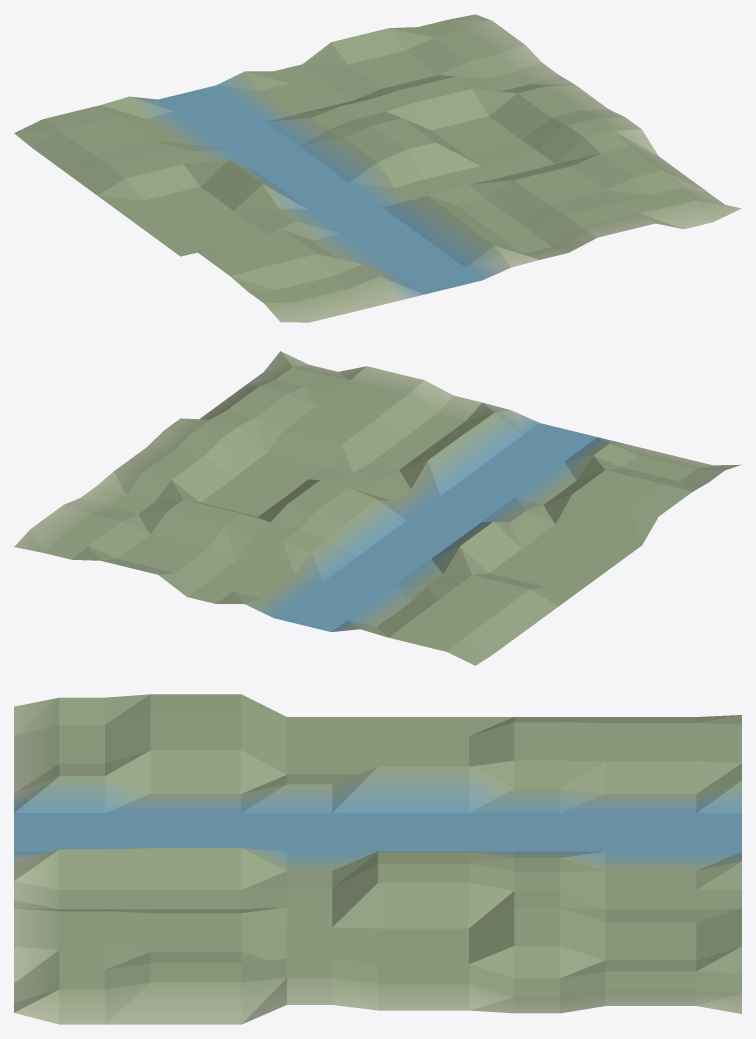
The picture shows the model from 3 angles, top to bottom: view 1: azimuth 30°, elevation 25°; view 2: azimuth 150°, elevation 25°; view 3: azimuth 270°, elevation 25°; orthographic projection. The views are drawn at different scales.
Bounding box in the file's own units: 32 × 1.34 × 32.
